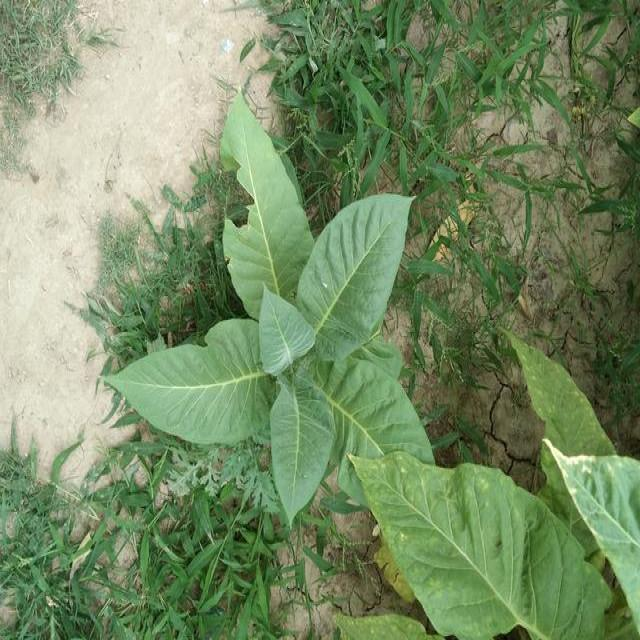crop: (108, 89, 442, 521)
